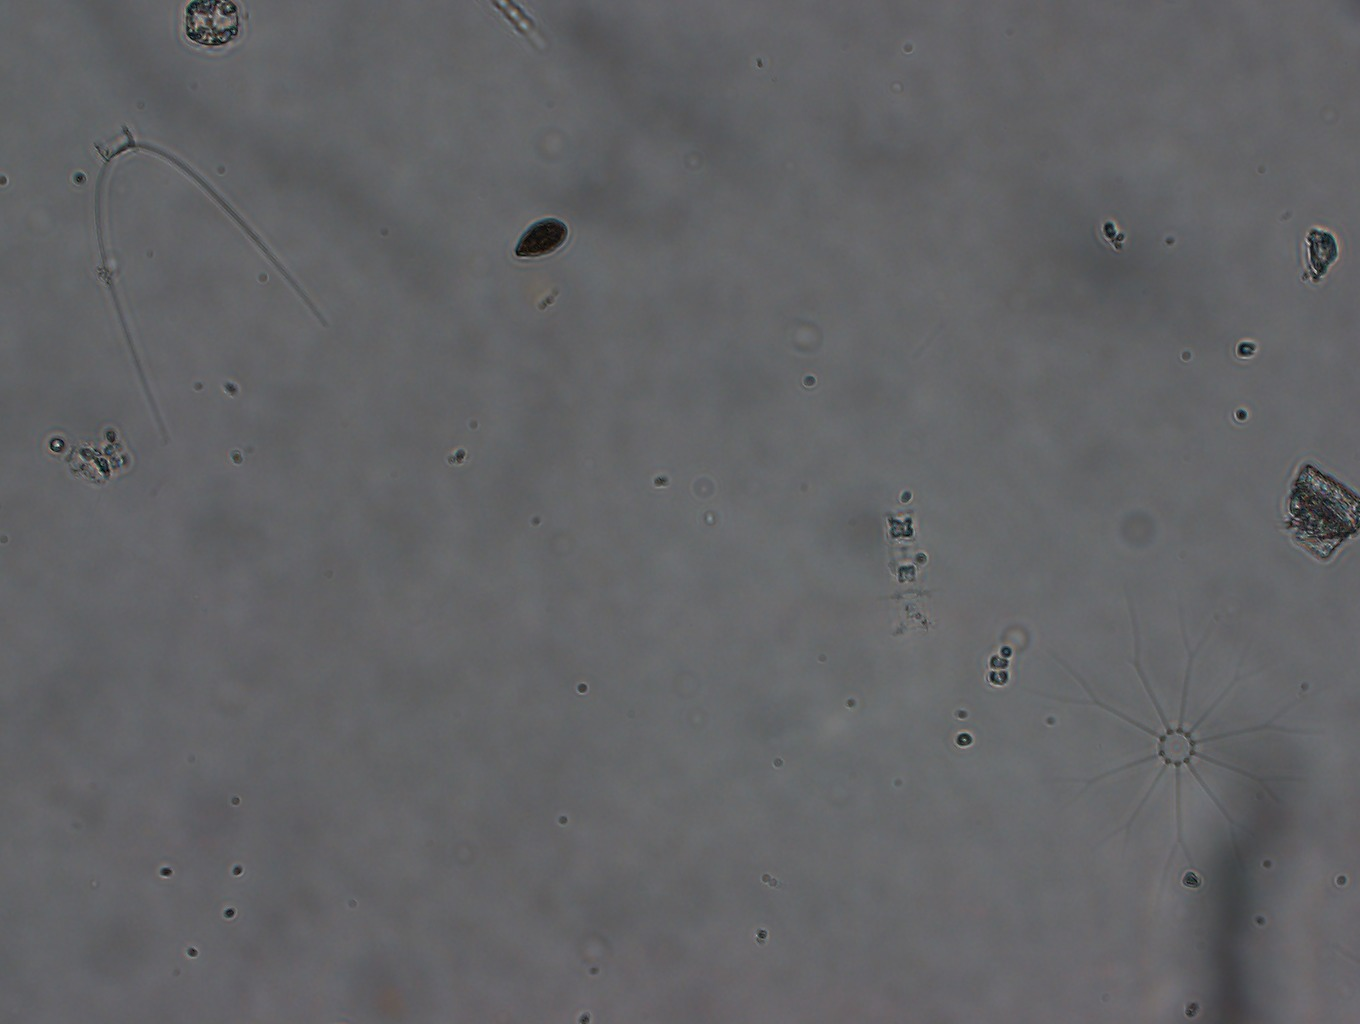bacteriastrum: (1029, 591, 1336, 883)
chaetoceros: (77, 118, 335, 459)
